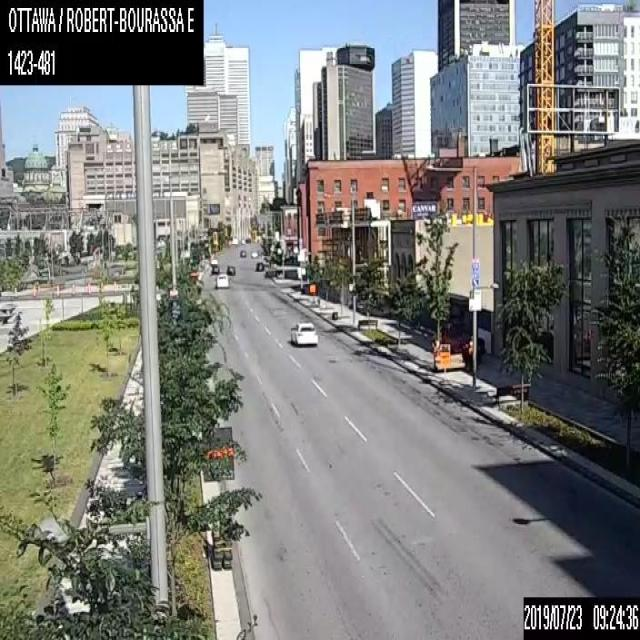construction: (200, 426, 234, 569), (439, 350, 450, 386), (308, 283, 316, 304)
vehicle: (289, 319, 318, 345), (216, 273, 228, 287), (210, 258, 219, 274), (225, 264, 235, 274), (254, 260, 262, 271), (250, 250, 258, 257), (239, 249, 246, 256)
